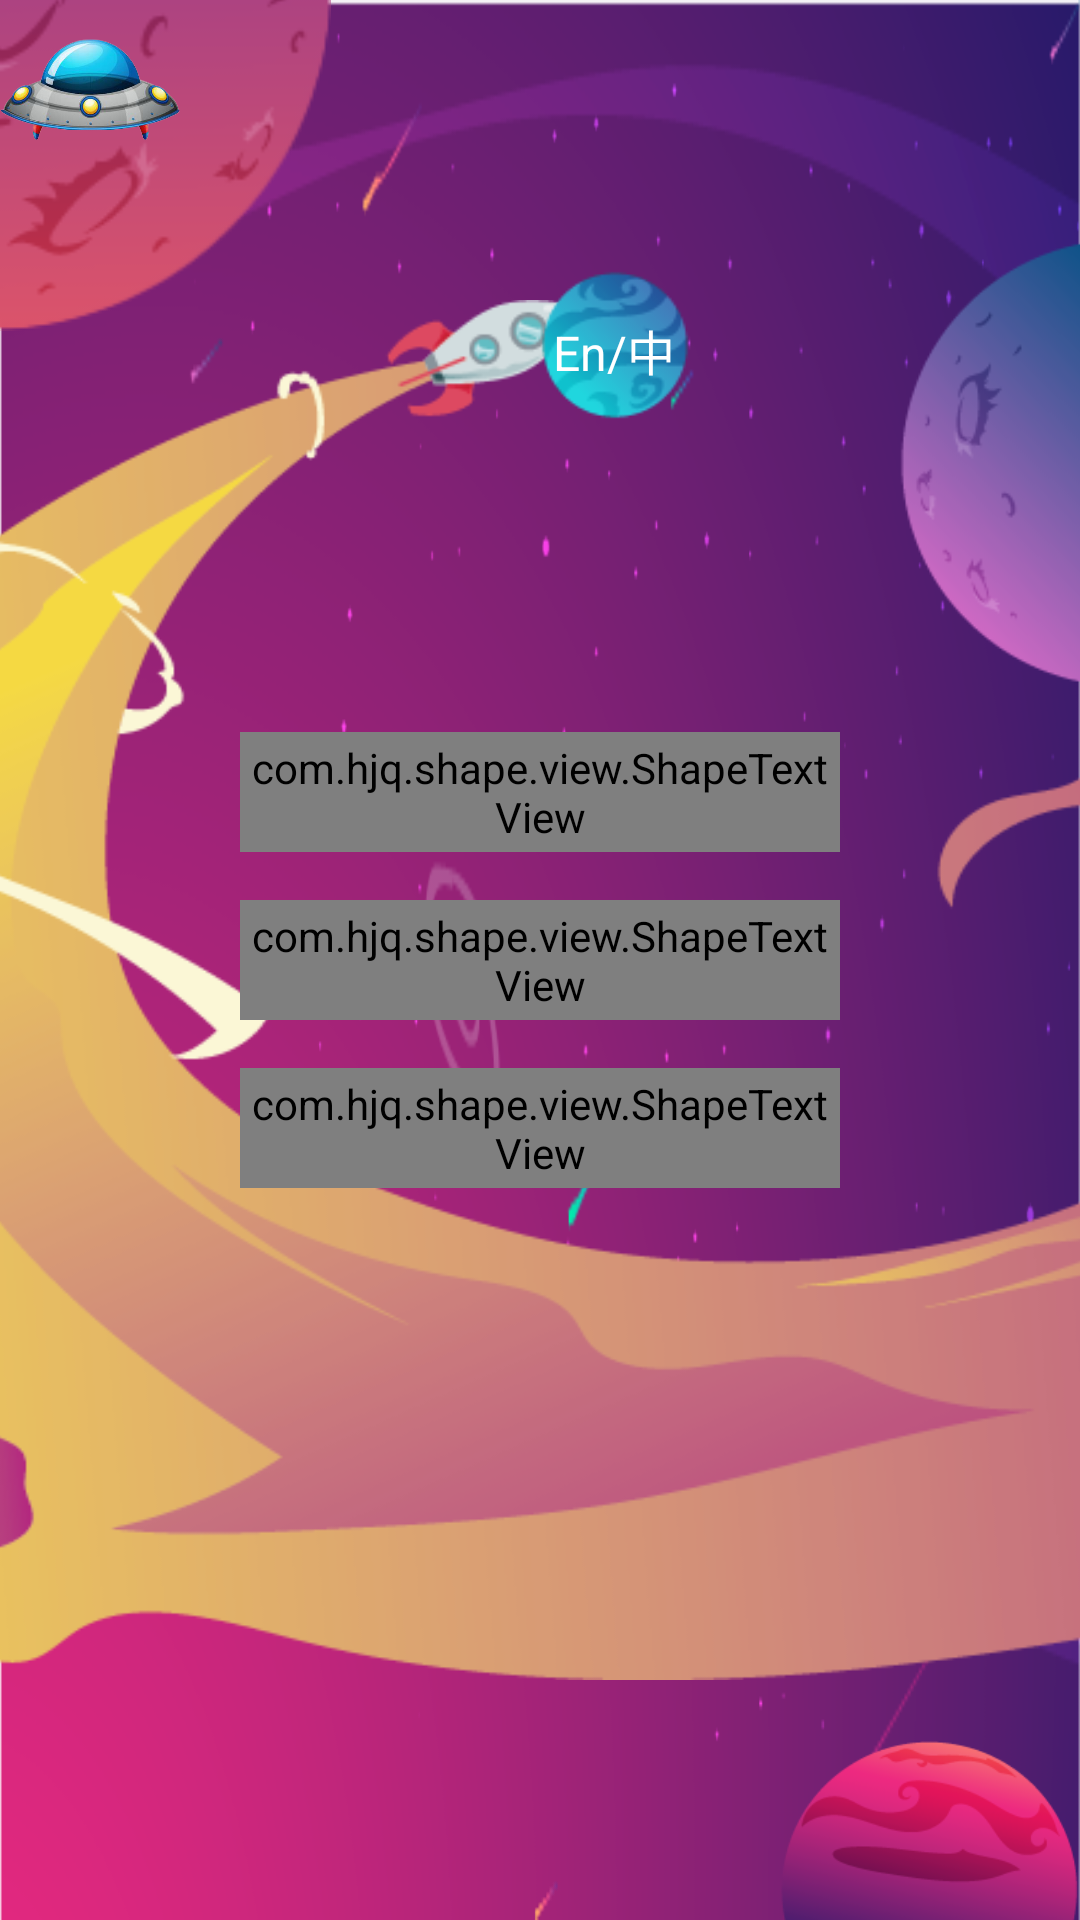

Point at icon controls on the screen. Image size 1080px×1920px, points as (x=x, y=y).
ufo: (x=90, y=90)
